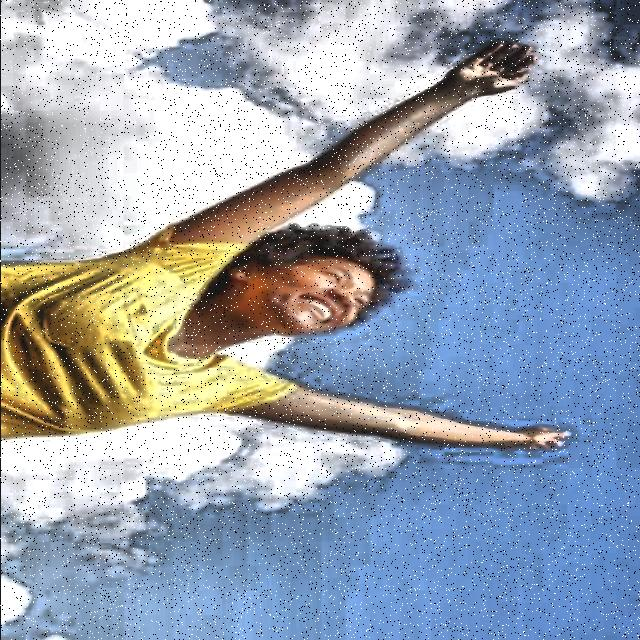happy: (200, 222, 413, 348)
